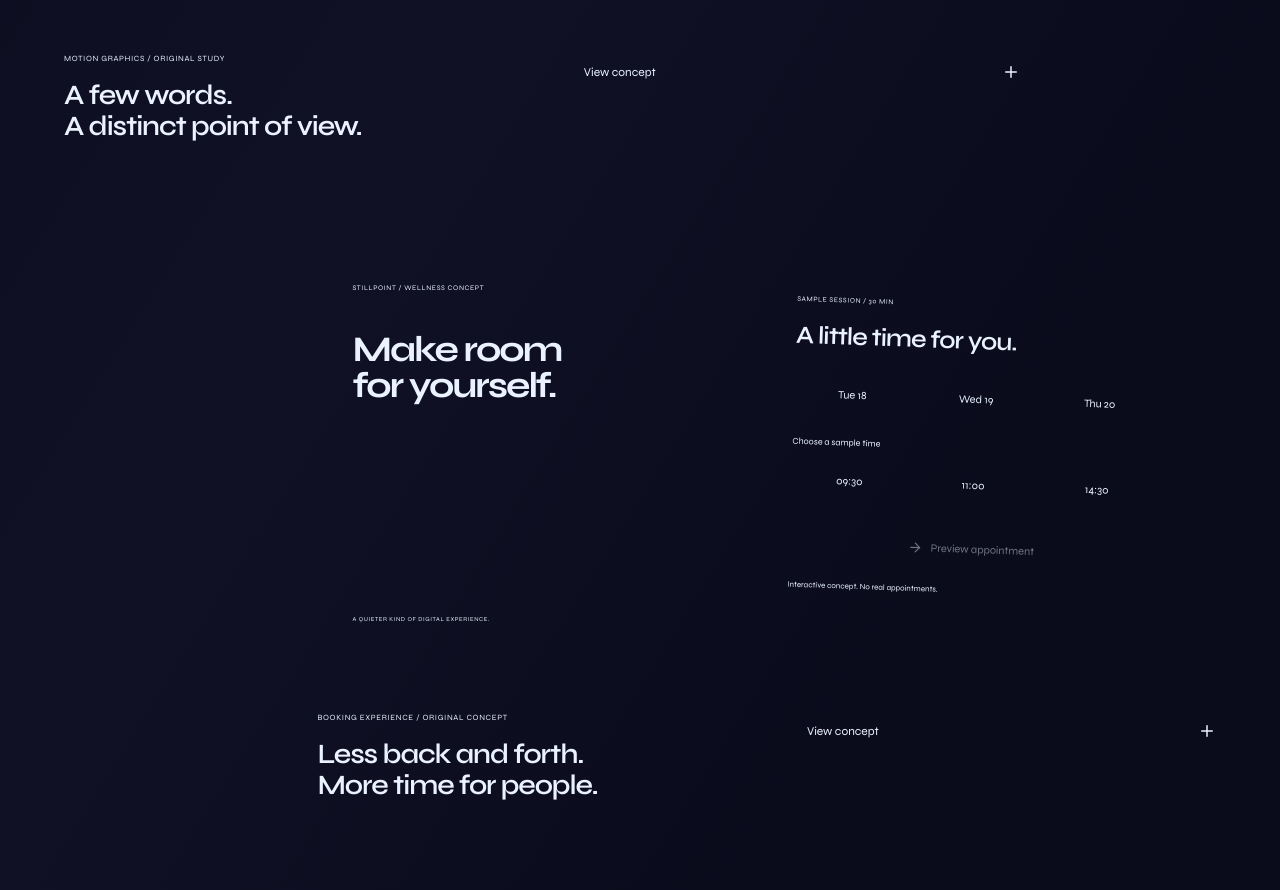
Test: homepage original concept studies › requires a sample appointment time and invalidates confirmation when the day changes
This screenshot has width=1280, height=890.
(page scrolled)
Check: the button "Preview appointment" is disabled, box [788,521,1153,578]
Click the button "14:30": click(1096, 490) [1037,466,1156,514]
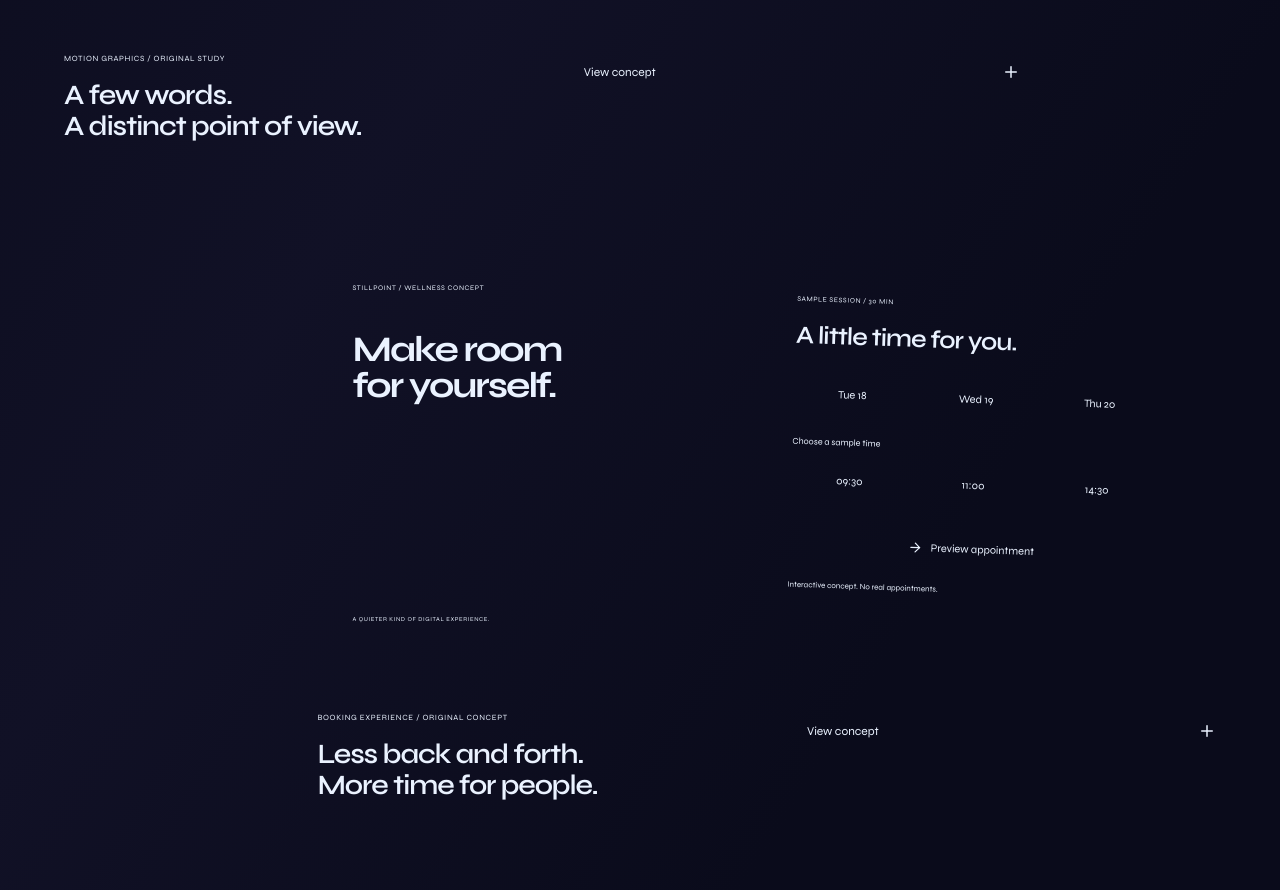
Click the button "Preview appointment": click(970, 550) [788,521,1153,578]
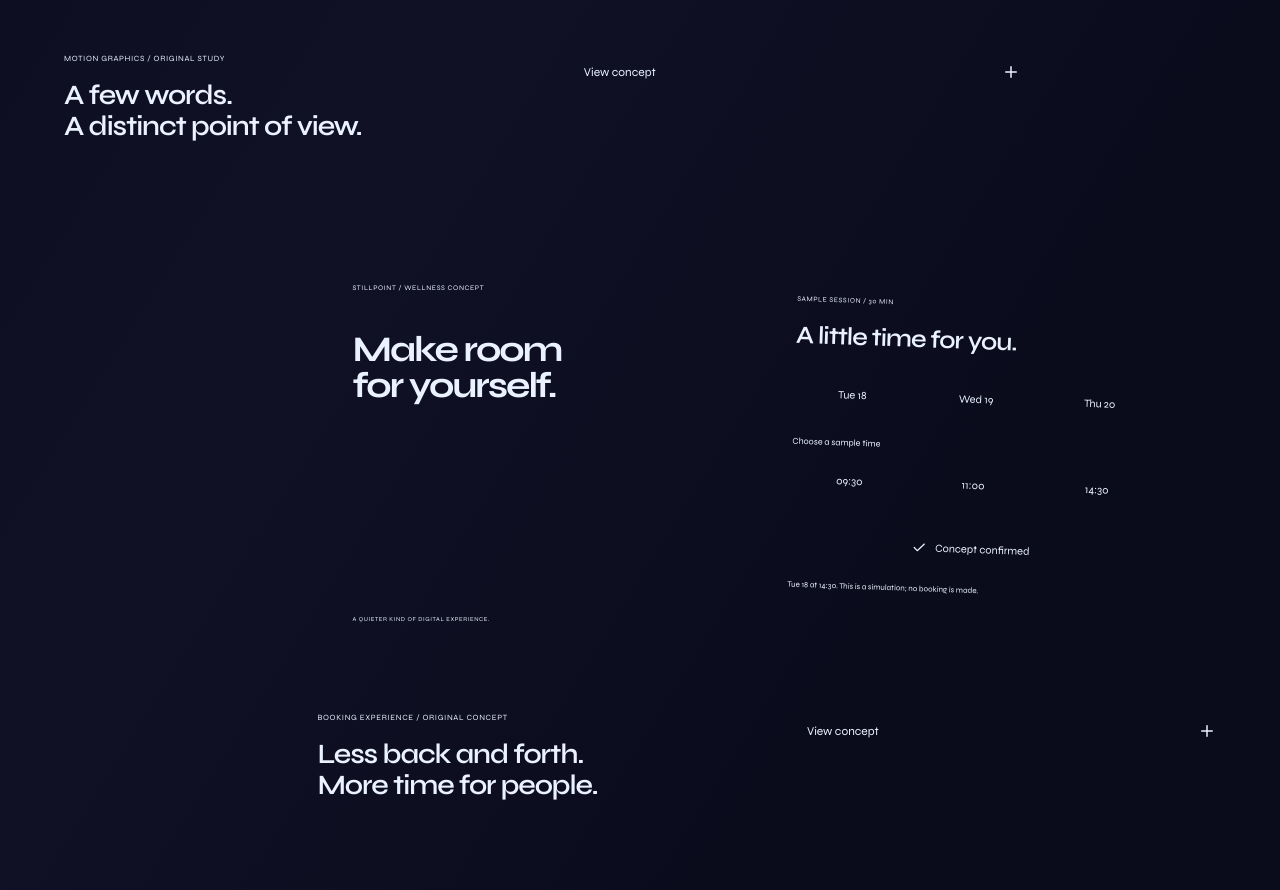
Check: the message reads "Tue 18 at 14:30. This is a simulation; no booking is made.", box [787,579,978,595]
Click the button "Wed 19": click(976, 400) [917,376,1035,424]
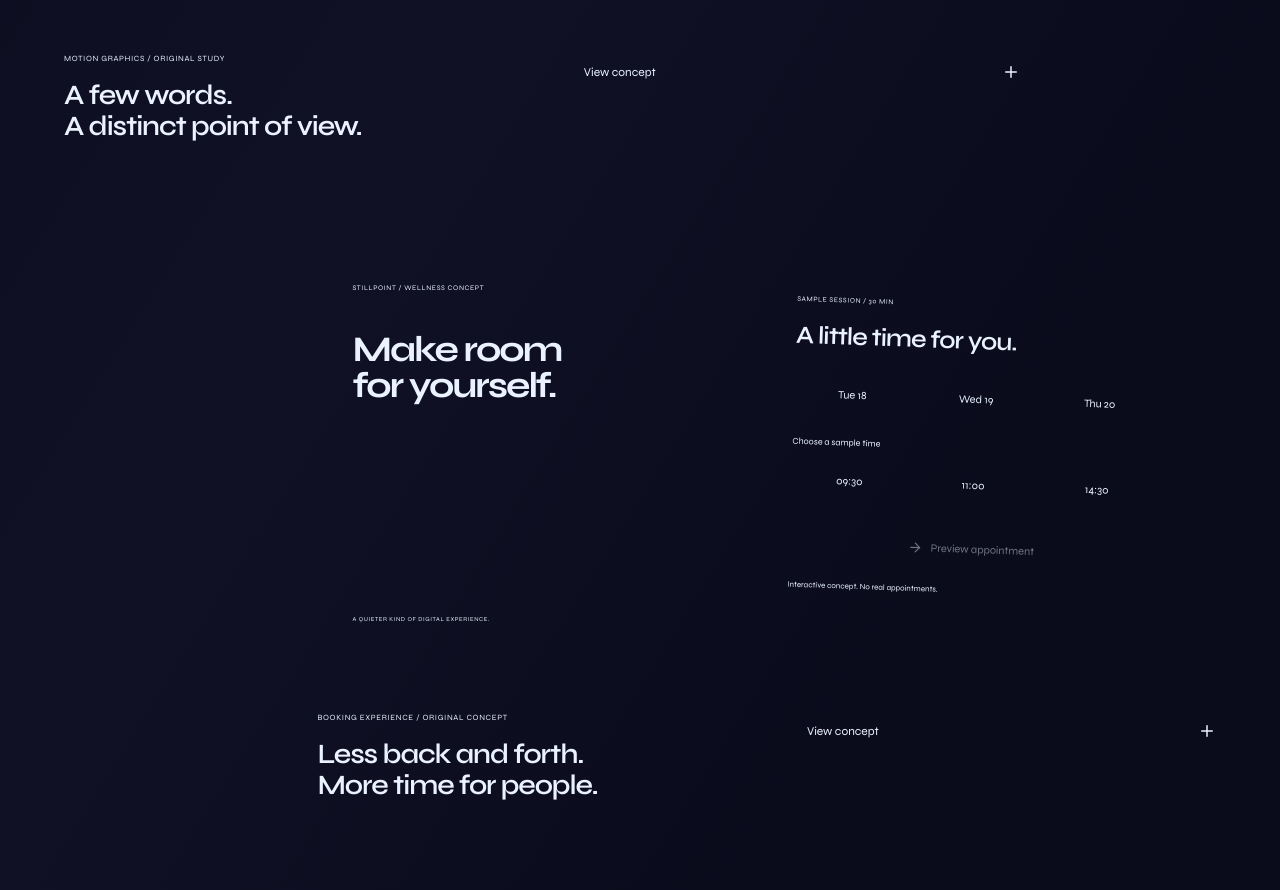
Check: the button "Preview appointment" is disabled, box [788,521,1153,578]
Check: the message reads "Interactive concept. No real appointments.", box [787,579,938,594]
